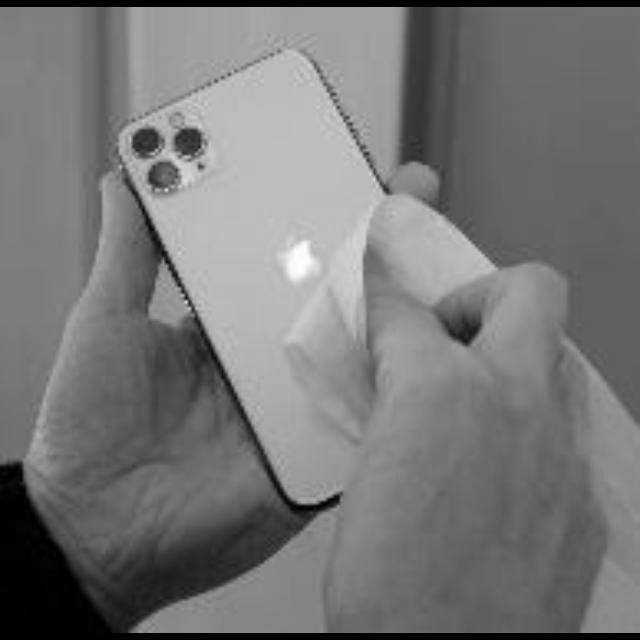fake: (78, 48, 532, 554)
